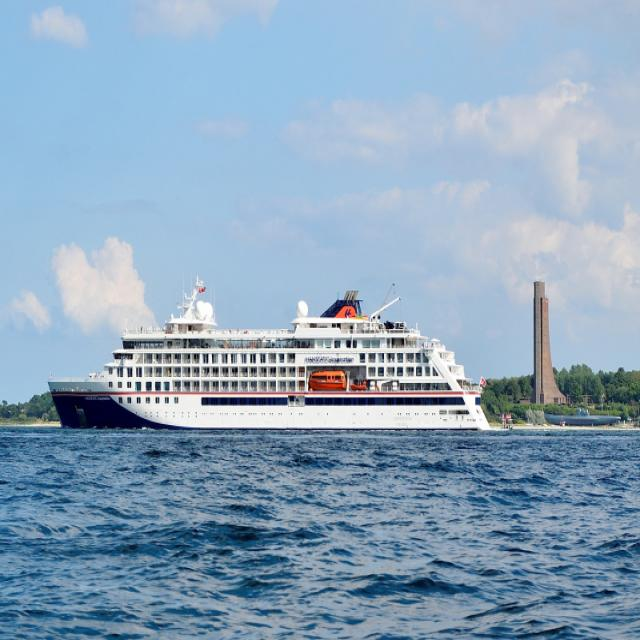cruises: (44, 273, 496, 441)
